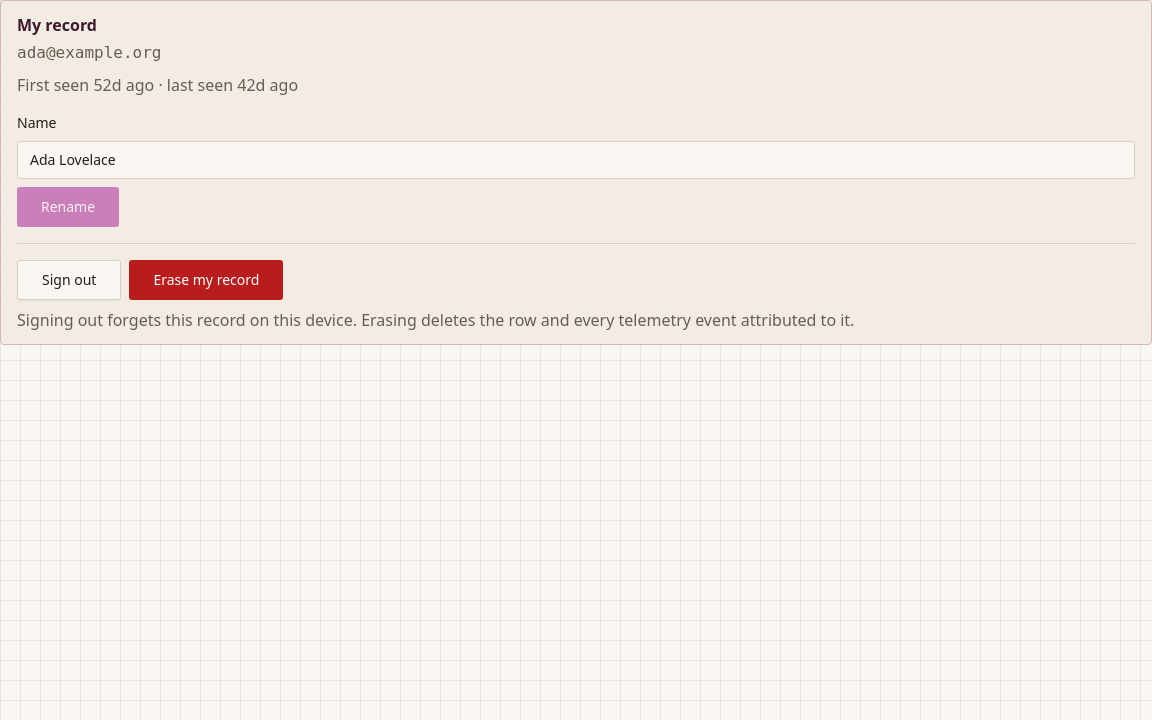
Test case: MyRecord › renders a refusal rather than swallowing it
In the field labelled "Name": coordinates (576, 160) top-left (17, 141), bottom-right (1135, 179), type "!"
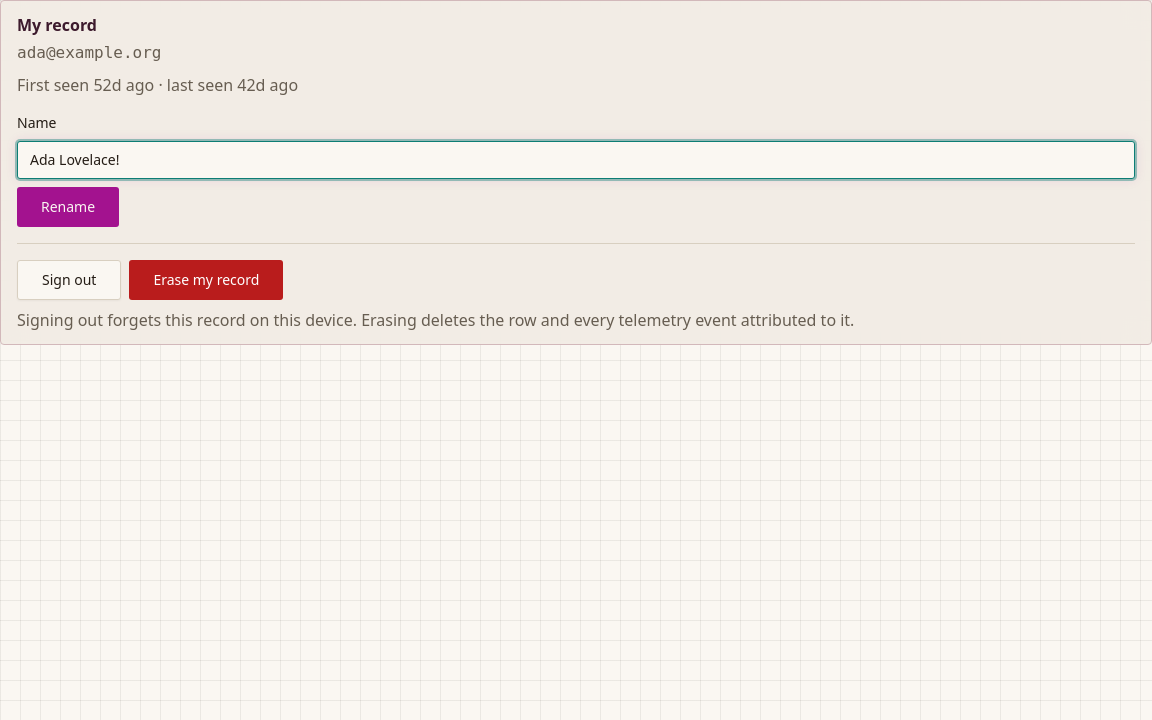
Click the button "Rename": coordinates (68, 207) top-left (17, 187), bottom-right (119, 227)
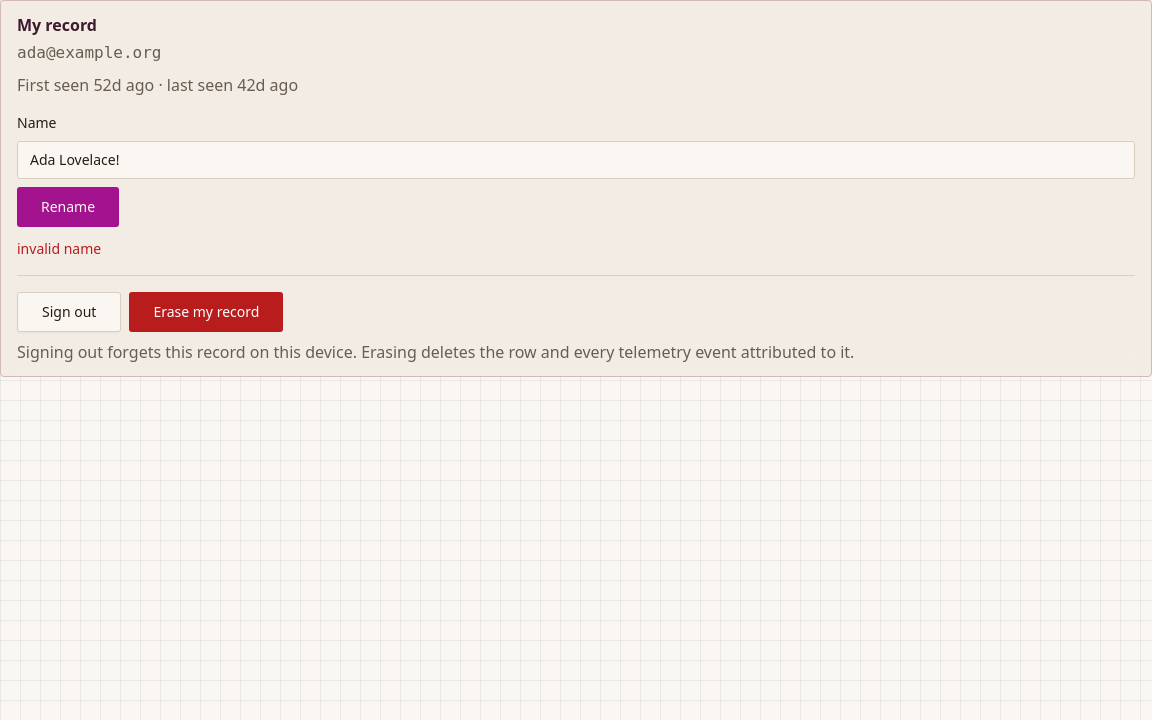
Now the message reads "invalid name", box top-left (17, 239), bottom-right (101, 258)
